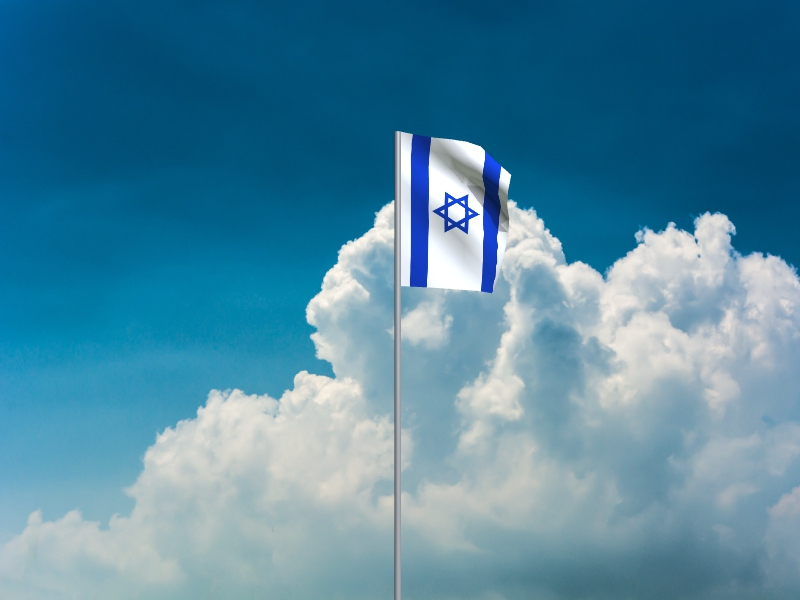il: (401, 133, 513, 295)
